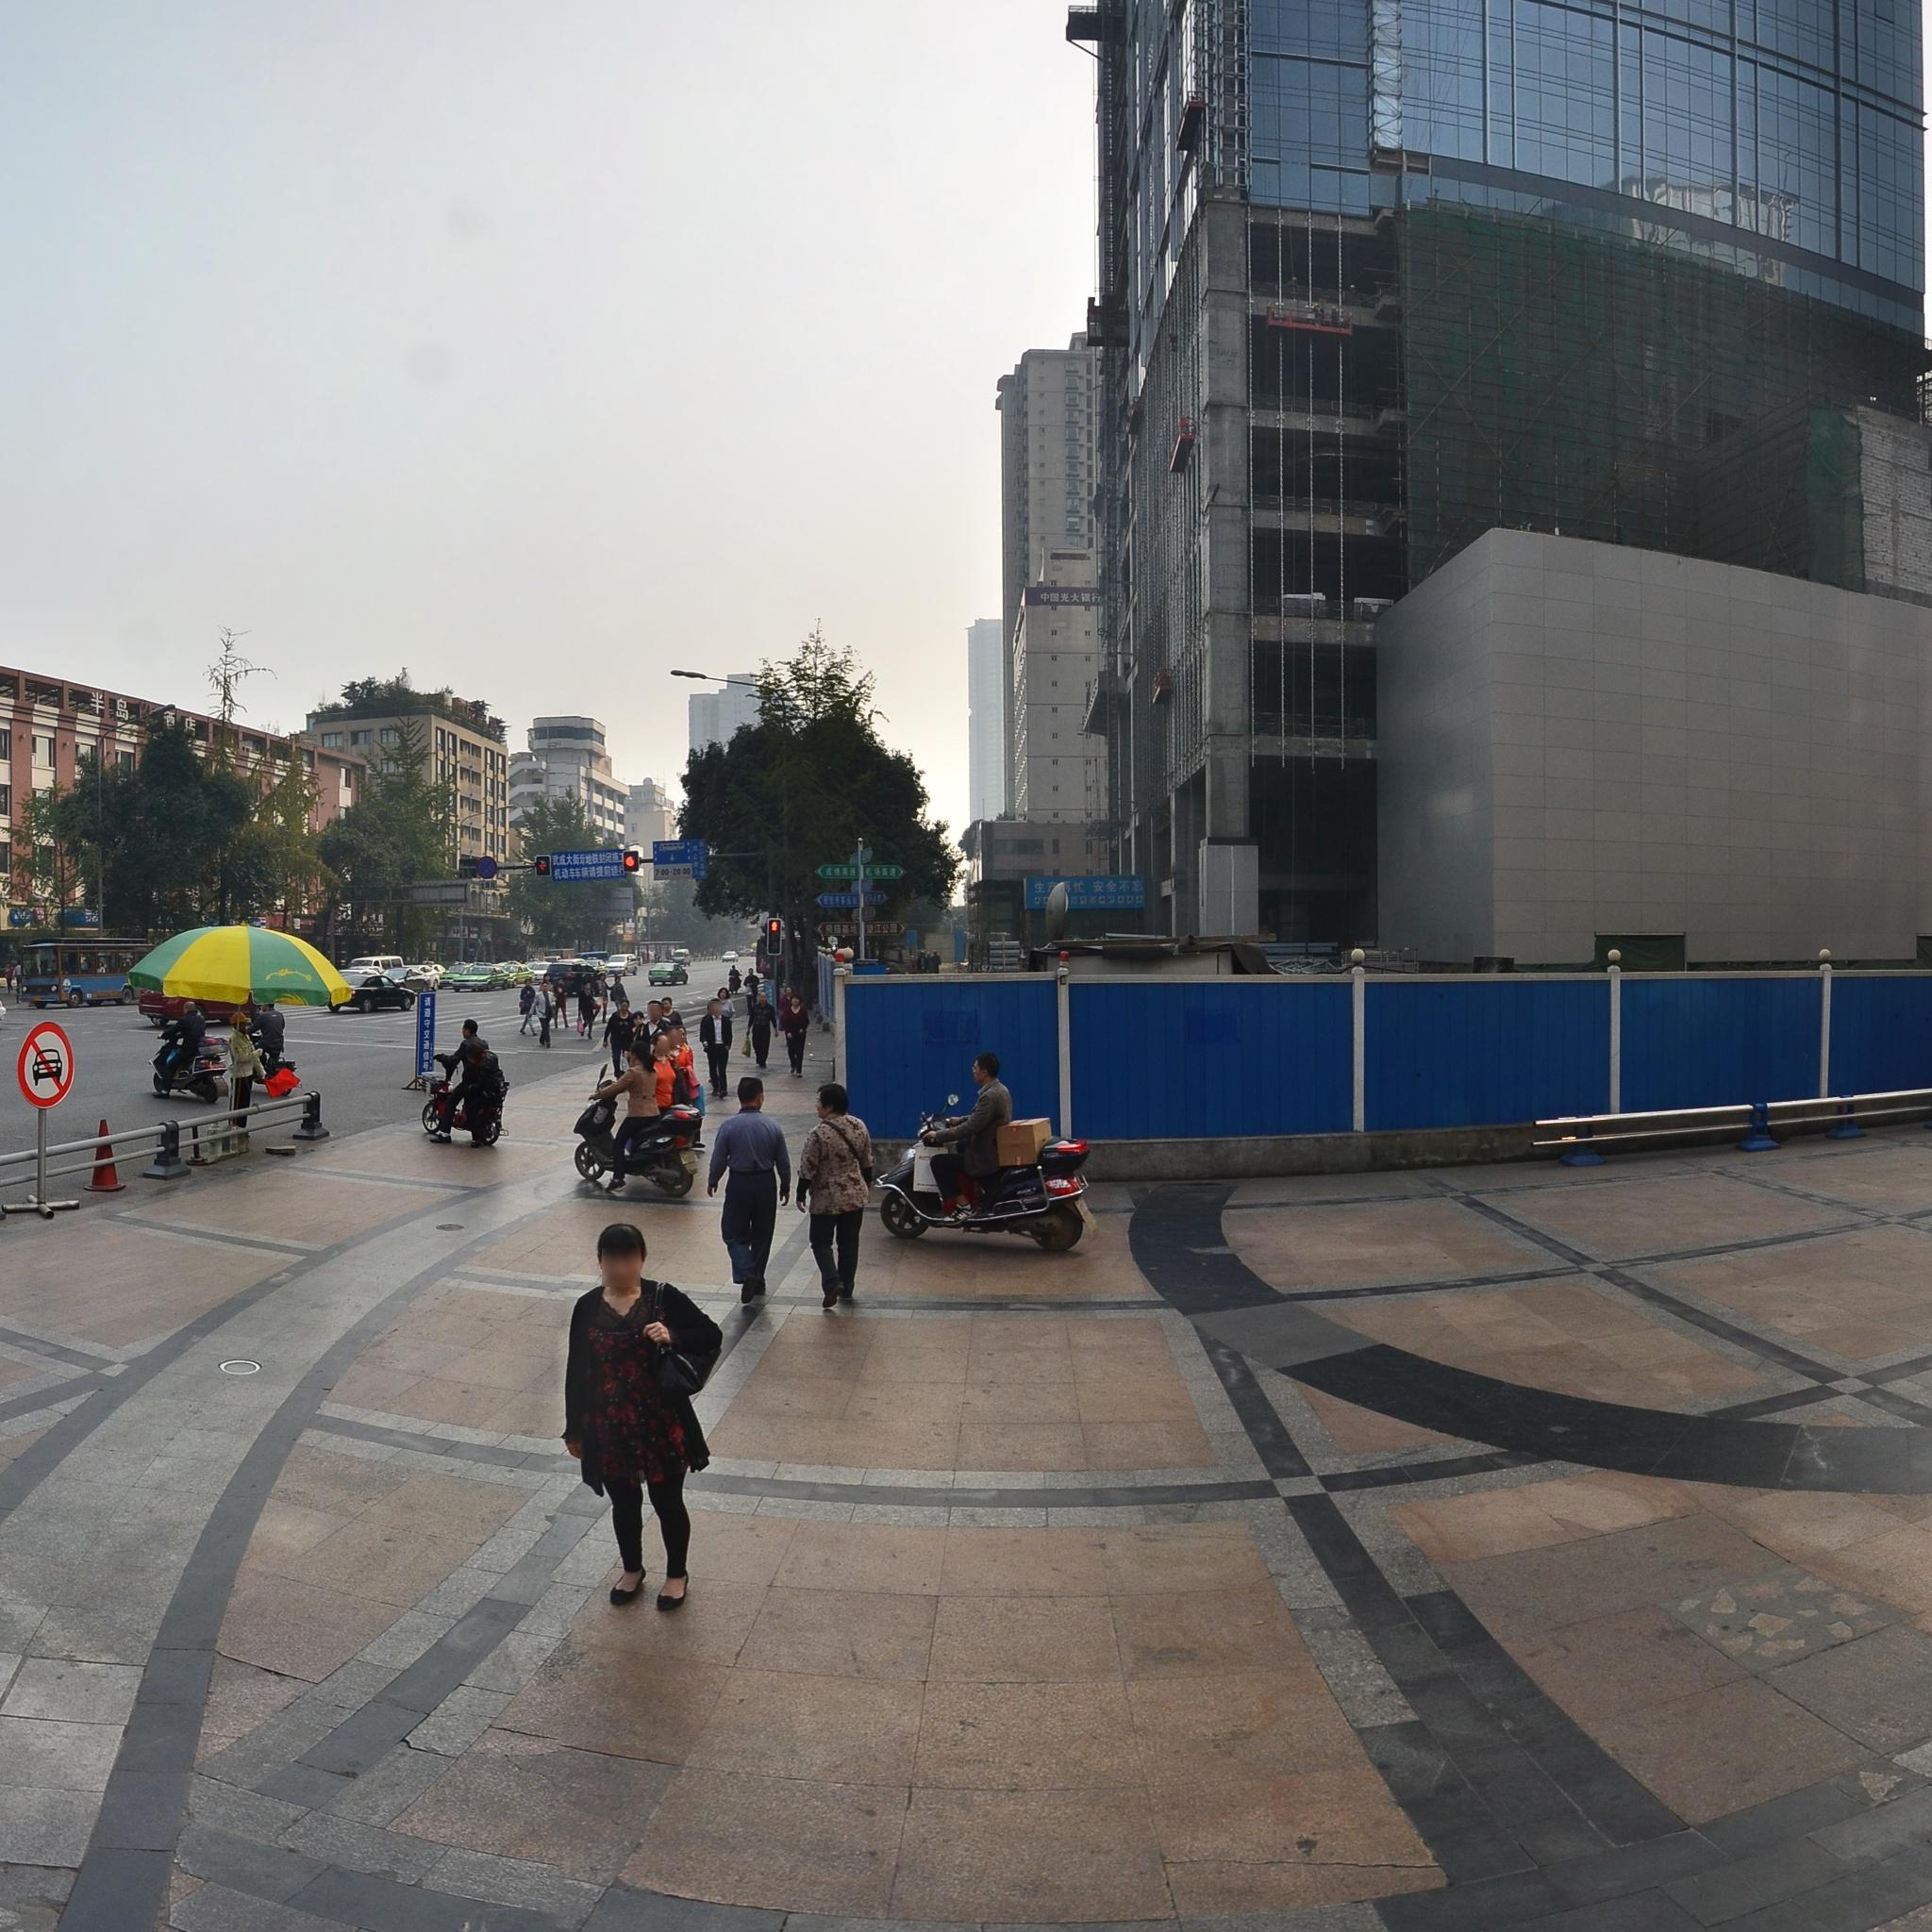p10: (19, 1024, 78, 1109)
pn: (478, 856, 501, 879)
